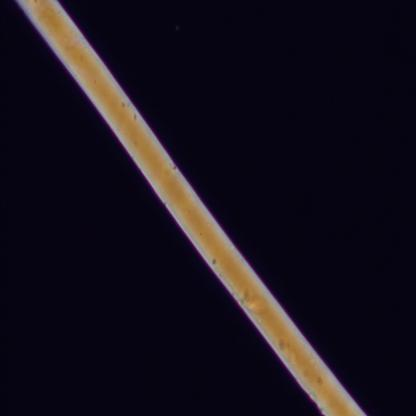Microfibre: (15, 0, 367, 416)
